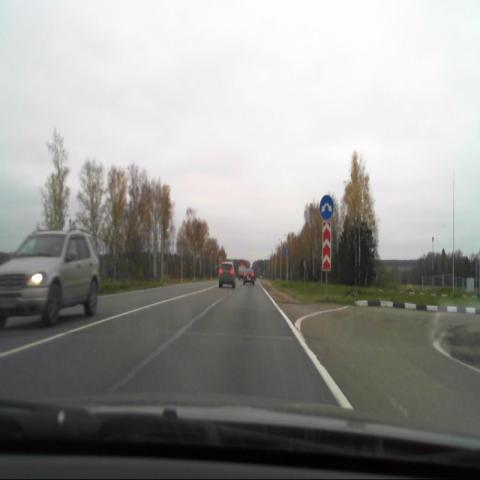4_2_3: (319, 195, 333, 220)
